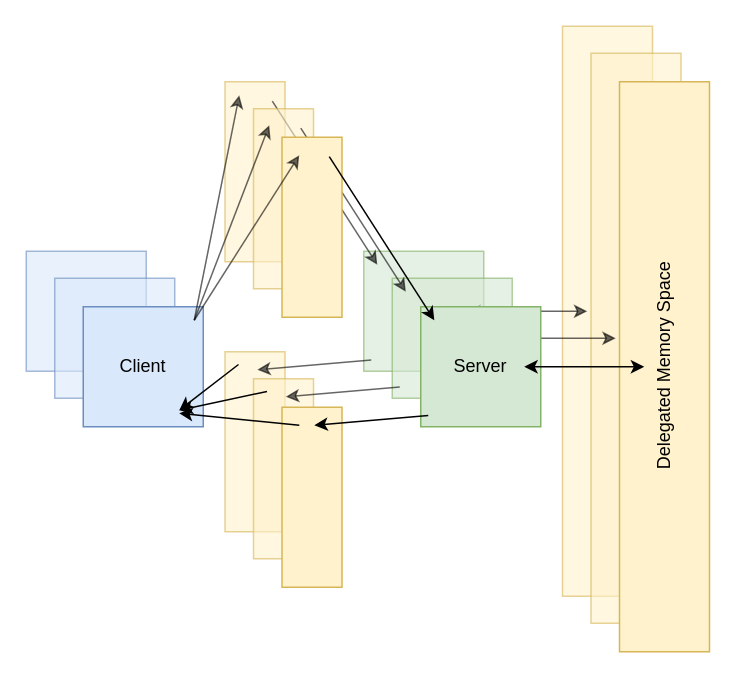
Some shapes in this 750 by 693 pixel diagram are drawn without their labels. The shapes that lost their labels are listed below. From the top down, each one's centre as x and y in pixels, then its label:
At (x=311, y=226): "Request".
At (x=311, y=496): "Response".
